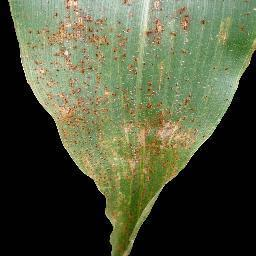Corn_Common_Rust: (0, 1, 256, 106), (83, 105, 176, 254), (176, 103, 232, 177), (37, 102, 82, 176)
